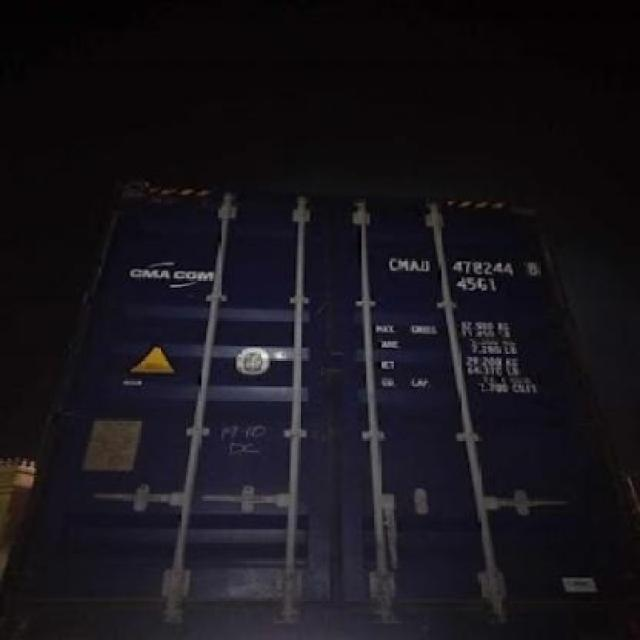ISO: (456, 272, 504, 298)
container_number: (370, 245, 544, 280)
